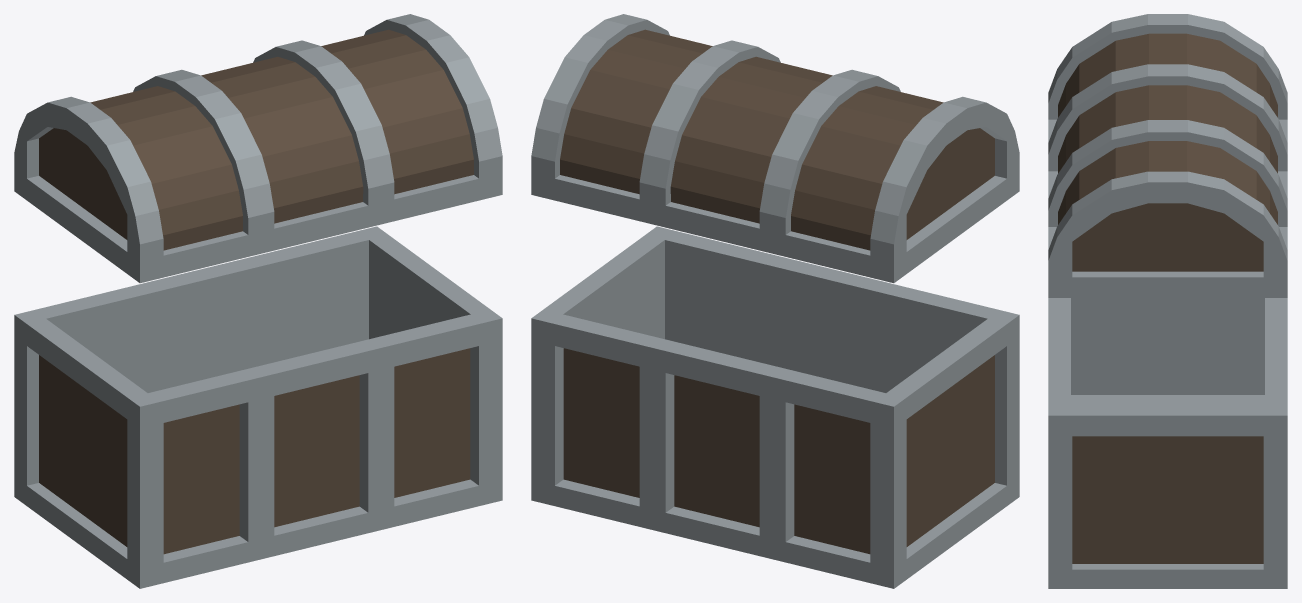
File: Chest_V2_NewPivots.fbx
The picture shows the model from 3 angles, left to right: view 1: azimuth 30°, elevation 25°; view 2: azimuth 150°, elevation 25°; view 3: azimuth 270°, elevation 25°; orthographic projection. The views are drawn at different scales.
Visible parts, largest first — view 1: polySurface1, polySurface7; view 2: polySurface1, polySurface7; view 3: polySurface1, polySurface7.
Boxes of the visible parts, box(x1,y1,x2,y2) form: polySurface1: box(14, 226, 502, 588); polySurface7: box(14, 14, 502, 283); polySurface1: box(531, 226, 1019, 588); polySurface7: box(531, 14, 1019, 283); polySurface1: box(1048, 298, 1287, 588); polySurface7: box(1048, 14, 1287, 297).
Size of the model in its own units: 5 by 5.63 by 3.
